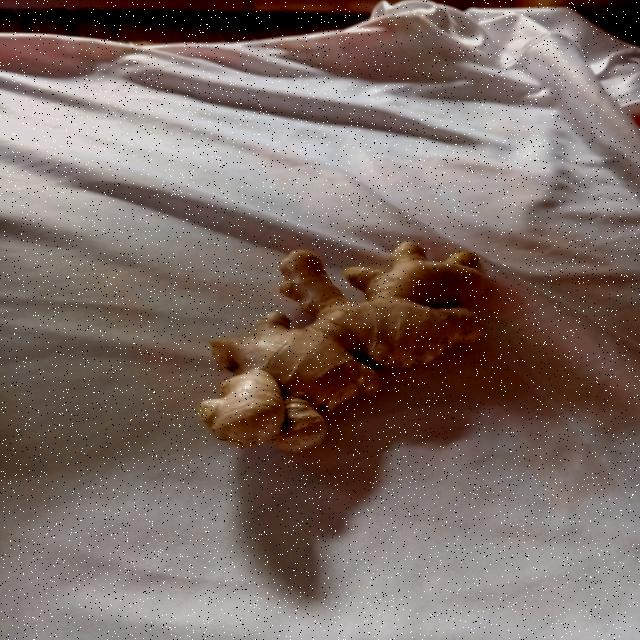ginger: (178, 228, 504, 457)
